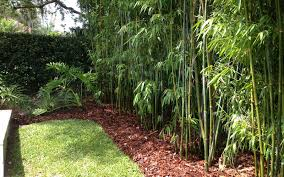bamboo: (182, 1, 284, 173), (131, 2, 219, 122), (86, 1, 159, 104)
